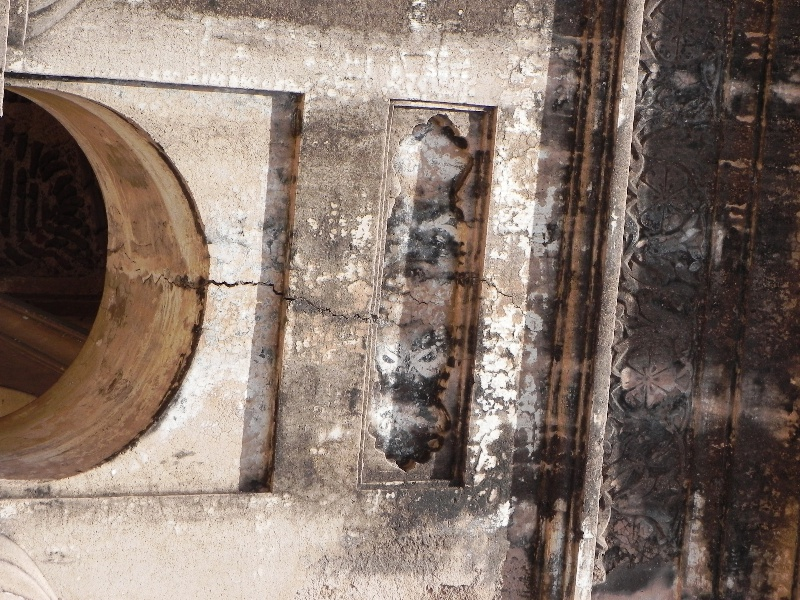Crack: (163, 265, 378, 327)
